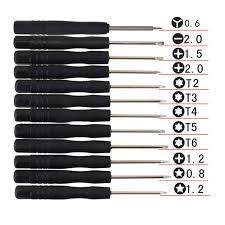screwdriver: (13, 154, 169, 168), (13, 34, 164, 48), (13, 50, 163, 64), (14, 123, 164, 137), (13, 139, 169, 152), (14, 108, 165, 121), (14, 80, 164, 93), (13, 65, 160, 78), (14, 94, 165, 106), (14, 184, 111, 199), (14, 78, 109, 93), (13, 123, 111, 137), (13, 153, 111, 167), (13, 169, 111, 183), (13, 139, 110, 153), (13, 49, 109, 63), (13, 108, 110, 121), (13, 34, 109, 47), (13, 19, 109, 32), (13, 65, 109, 78), (13, 94, 110, 106)
